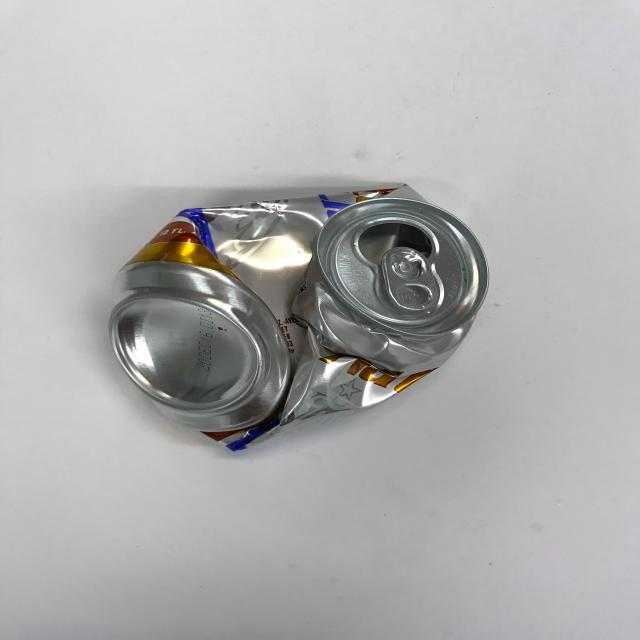metal: (83, 165, 512, 458)
